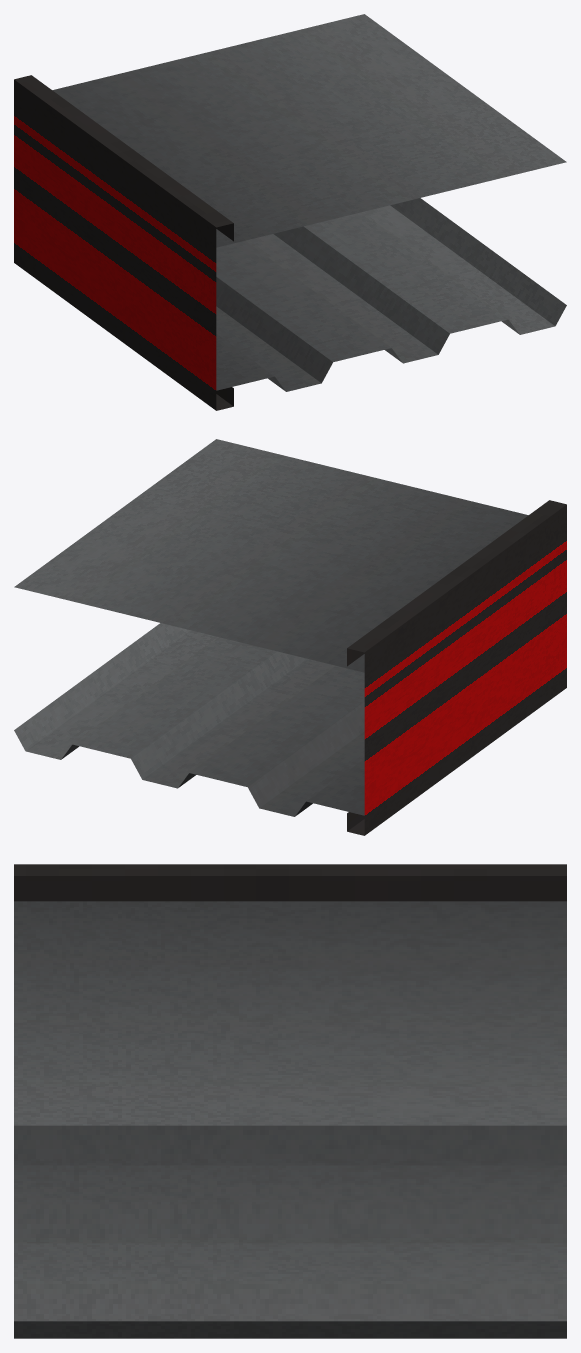
Rendered from GasRoof_5.glb.
The picture shows the model from 3 angles, top to bottom: view 1: azimuth 30°, elevation 25°; view 2: azimuth 150°, elevation 25°; view 3: azimuth 270°, elevation 25°; orthographic projection. The views are drawn at different scales.
Visible parts, largest first — view 1: GasRoof_5.001; view 2: GasRoof_5.001; view 3: GasRoof_5.001.
Boxes of the visible parts, x1,y1,x2,y2 form: GasRoof_5.001: [14, 14, 566, 410]; GasRoof_5.001: [14, 439, 566, 835]; GasRoof_5.001: [14, 864, 566, 1338].
Bounding box in the file's own units: 2 × 1 × 2.
1 material, 1 textured.
